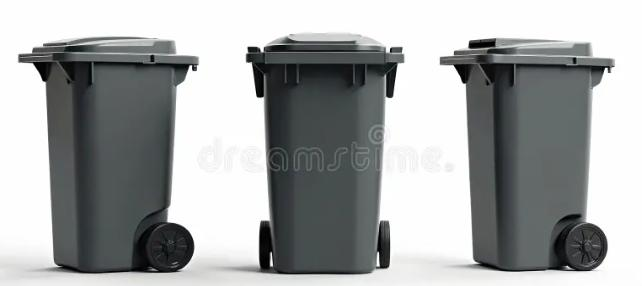garbage container: (15, 32, 203, 278), (437, 33, 618, 276), (242, 29, 407, 278)
